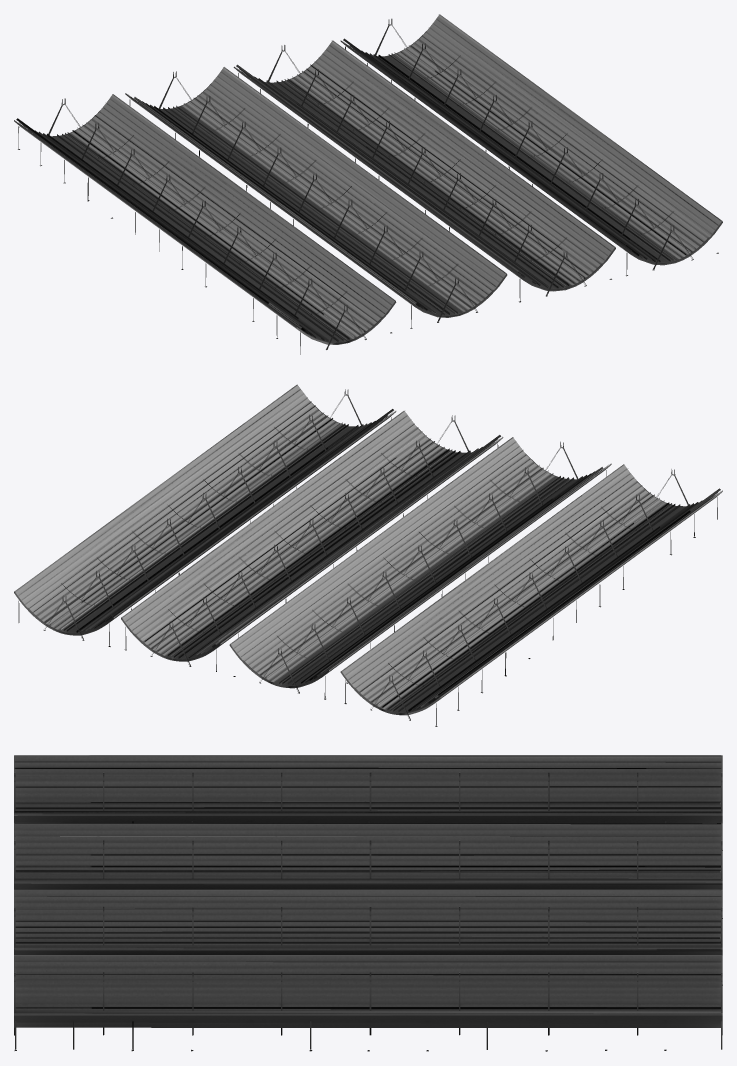
File: chime-june-22-2022.glb
3 views of the same model, one above another, from view 1: azimuth 30°, elevation 25°; view 2: azimuth 150°, elevation 25°; view 3: azimuth 270°, elevation 25° (orthographic). The views are drawn at different scales.
Visible parts, largest first — view 1: radio8; view 2: radio8; view 3: radio8.
Part boxes in pixels (x1,y1,x2,y2): radio8: (14, 14, 722, 354); radio8: (14, 384, 722, 726); radio8: (14, 755, 722, 1051).
Bounding box in the file's own units: 87.09 × 7.95 × 100.
Materials: 1 (1 with a texture image).
